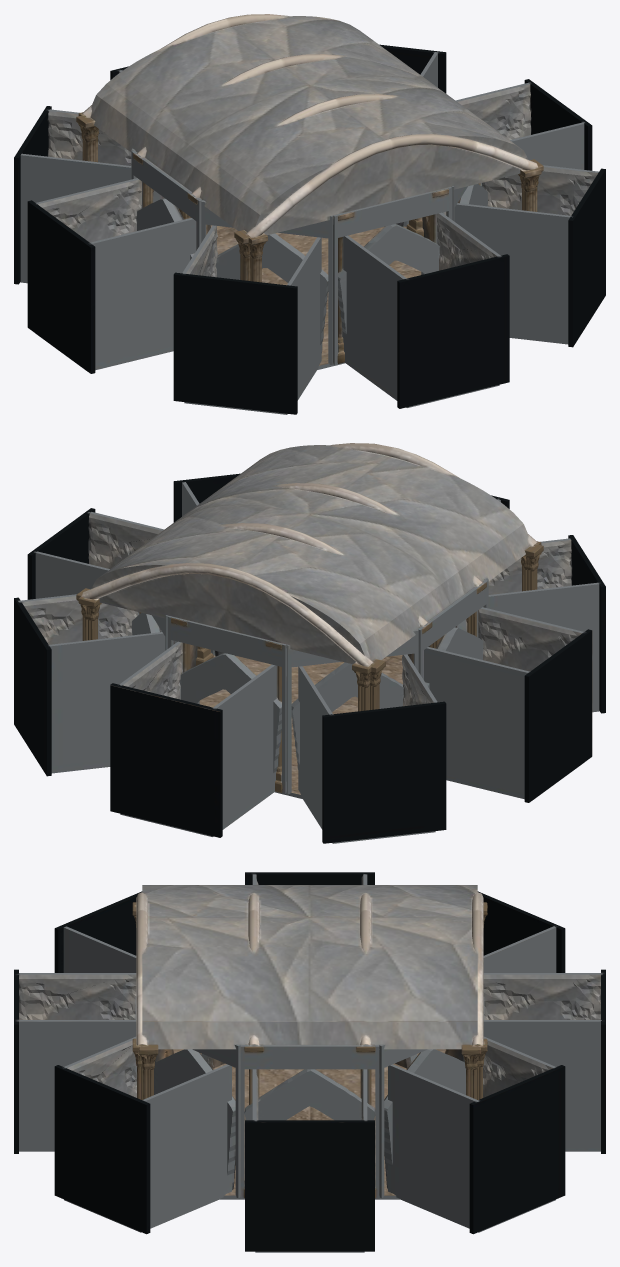
The model's file is room.glb.
3 renders of one model, top to bottom at view 1: azimuth 30°, elevation 25°; view 2: azimuth 150°, elevation 25°; view 3: azimuth 270°, elevation 25°, orthographic. The views are drawn at different scales.
Parts seen in each view (by area): view 1: DIAMOND-3; view 2: DIAMOND-3; view 3: DIAMOND-3.
Boxes of the visible parts, bbox=[...] form: DIAMOND-3: bbox=[14, 14, 605, 414]; DIAMOND-3: bbox=[14, 443, 605, 843]; DIAMOND-3: bbox=[14, 872, 605, 1252].
Size of the model in its own units: 14.12 by 5.75 by 14.12.
Materials: 1 (1 with a texture image).
